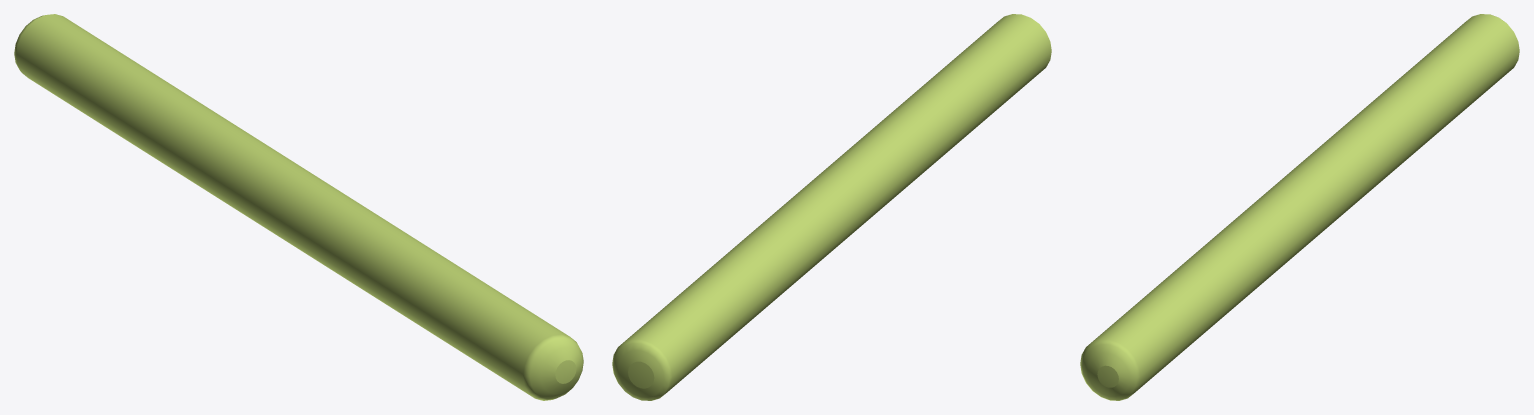
The model's file is Industrialist Glow Stick.fbx.
3 views of the same model, side by side, from view 1: azimuth 30°, elevation 25°; view 2: azimuth 150°, elevation 25°; view 3: azimuth 330°, elevation 25° (orthographic). The views are drawn at different scales.
Parts seen in each view (by area): view 1: Industrialist_Glow_Stick_1; view 2: Industrialist_Glow_Stick_1; view 3: Industrialist_Glow_Stick_1.
Part boxes in pixels (x1,y1,x2,y2): Industrialist_Glow_Stick_1: (14,14,583,400); Industrialist_Glow_Stick_1: (612,14,1051,400); Industrialist_Glow_Stick_1: (1080,14,1519,400).
Bounding box in the file's own units: 2.55 × 1.39 × 18.31.
